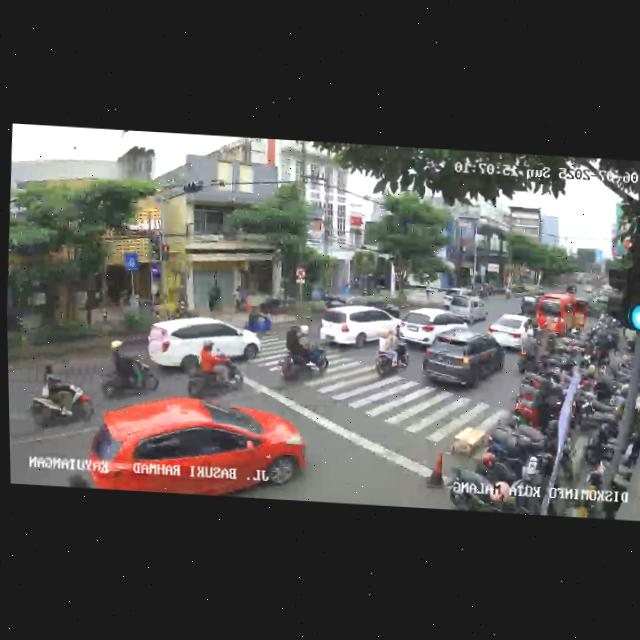car: (84, 389, 311, 500), (148, 314, 254, 376), (418, 329, 506, 394), (321, 303, 399, 353), (397, 305, 470, 350), (535, 291, 590, 342), (487, 311, 538, 351), (441, 290, 488, 325), (519, 295, 539, 320)
motorcycle: (22, 363, 97, 436), (100, 341, 161, 406), (180, 340, 245, 399), (275, 321, 332, 388), (372, 326, 412, 380), (517, 326, 536, 374)
